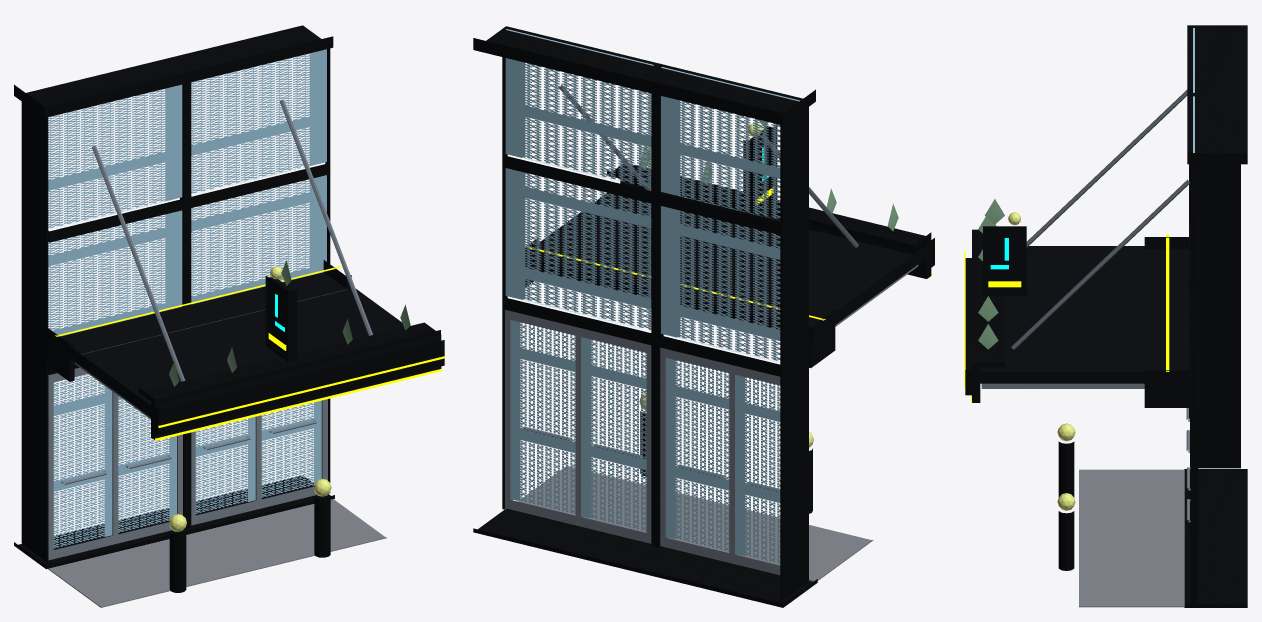
Rendered from tt_entrance_bay.glb.
3 views of the same model, side by side, from view 1: azimuth 30°, elevation 25°; view 2: azimuth 150°, elevation 25°; view 3: azimuth 270°, elevation 25° (orthographic). The views are drawn at different scales.
Visible parts, largest first — view 1: Frame, Canopy, Threshold_Mat, Upper_Scissor_11, Upper_Scissor_01, Fascia_Gunmetal, Upper_Scissor_00, Upper_Scissor_10, Door_Scissor_00, Door_Stiles, Door_Scissor_01, Door_Scissor_10 (+9 smaller); view 2: Frame, Canopy, Upper_Scissor_10, Upper_Scissor_00, Upper_Scissor_11, Door_Stiles, Upper_Scissor_01, Door_Scissor_11, Door_Scissor_10, Door_Scissor_01, Threshold_Mat, Door_Scissor_00 (+5 smaller); view 3: Frame, Canopy, Threshold_Mat, Fascia_Gunmetal, Tie_Rods, Blade_Core, Ball_Bollards, Canopy_Soffit, Court_Line_LED, Blade_Frame, Fascia_Leaf_Crests, Bollard_Balls.
Boxes of the visible parts, x1,y1,x2,y2 form: Frame: (14,25,334,569); Canopy: (45,260,403,417); Threshold_Mat: (47,499,386,607); Upper_Scissor_11: (191,49,326,193); Upper_Scissor_01: (48,84,182,228); Fascia_Gunmetal: (138,322,444,435); Upper_Scissor_00: (48,210,182,336); Upper_Scissor_10: (191,175,326,304); Door_Scissor_00: (53,374,112,548); Door_Stiles: (48,367,327,560); Door_Scissor_01: (118,396,176,532); Door_Scissor_10: (195,416,255,513); Frame: (473,26,817,607); Canopy: (525,183,926,367); Upper_Scissor_10: (505,168,651,329); Upper_Scissor_00: (661,206,780,361); Upper_Scissor_11: (505,29,653,187); Door_Stiles: (505,309,780,575); Upper_Scissor_01: (661,67,799,219); Door_Scissor_11: (511,320,575,513); Door_Scissor_10: (582,337,646,531); Door_Scissor_01: (666,358,729,551); Threshold_Mat: (518,466,873,581); Door_Scissor_00: (736,375,780,563); Frame: (1184,25,1247,607); Canopy: (980,237,1189,407); Threshold_Mat: (1079,469,1183,607); Fascia_Gunmetal: (965,229,1004,395); Tie_Rods: (1011,90,1190,349); Blade_Core: (985,230,1024,292); Ball_Bollards: (1058,441,1074,570); Canopy_Soffit: (981,383,1144,388); Court_Line_LED: (964,234,1169,403); Blade_Frame: (983,226,1026,296); Fascia_Leaf_Crests: (978,217,998,349); Bollard_Balls: (1057,423,1075,510).
Size of what is drawn, in the model's own units: 4 by 6.1 by 3.44.
Materials: 10 (5 with a texture image).
